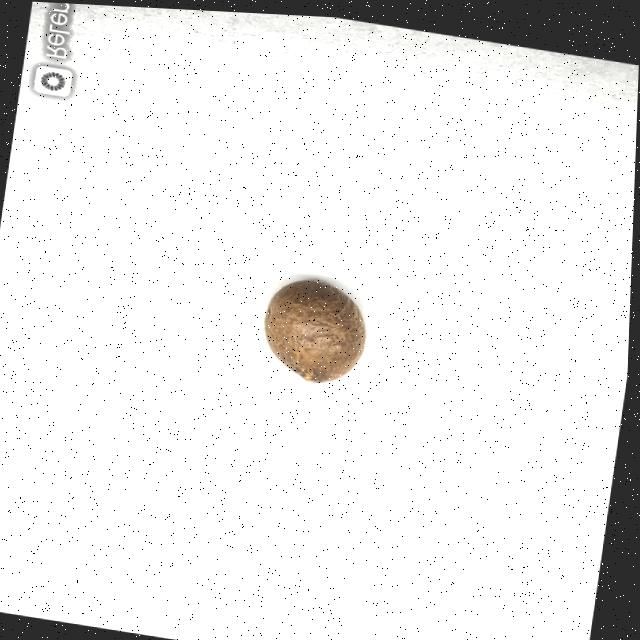Good bean: (258, 270, 375, 387)
